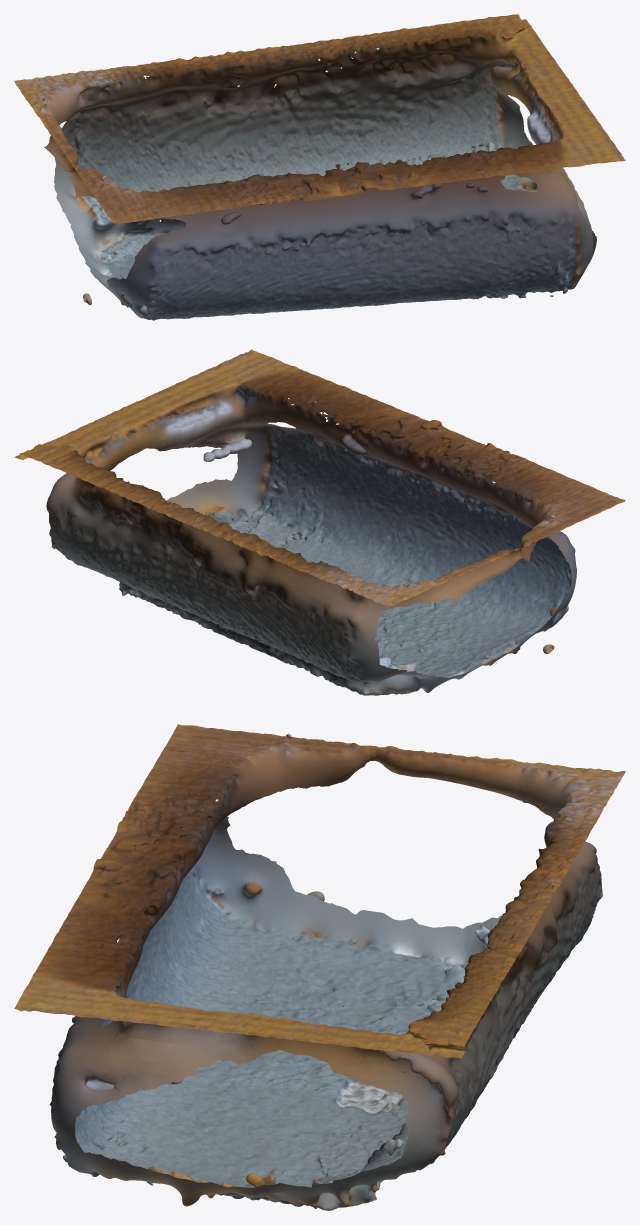
Rendered from wallet_d938d2abefb8.glb.
3 renders of one model, top to bottom at view 1: azimuth 30°, elevation 25°; view 2: azimuth 150°, elevation 25°; view 3: azimuth 270°, elevation 25°, orthographic. The views are drawn at different scales.
Visible parts, largest first — view 1: Model; view 2: Model; view 3: Model.
Part boxes in pixels (x1,y1,x2,y2): Model: [14, 14, 625, 320]; Model: [14, 349, 625, 695]; Model: [14, 724, 625, 1210].
Size of the model in its own units: 0.2804 by 0.0843 by 0.2192.
